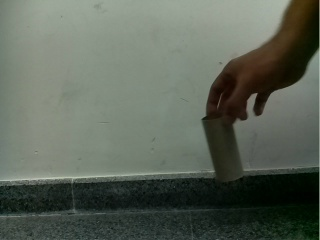rollo papel: (201, 112, 244, 180)
